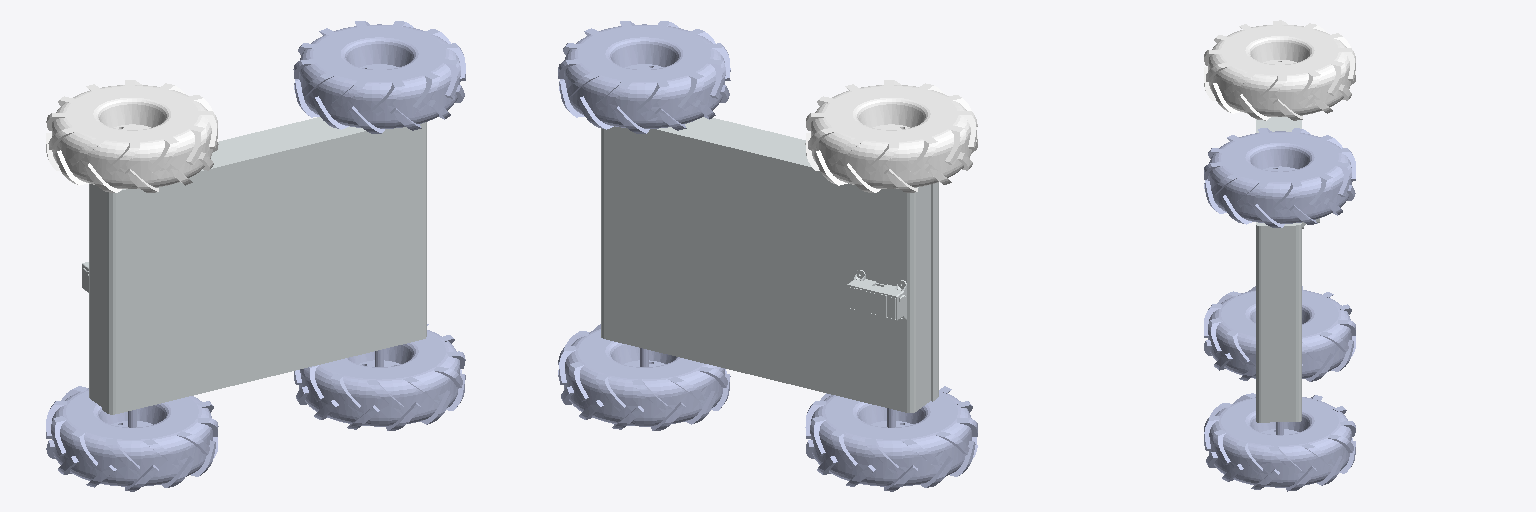
URDF robot description (Farmbot_v2):
<?xml version="1.0" encoding="utf-8"?>
<!-- This URDF was automatically created by SolidWorks to URDF Exporter! Originally created by Stephen Brawner ([email redacted]) 
     Commit Version: 1.6.0-1-g15f4949  Build Version: 1.6.7594.29634
     For more information, please see http://wiki.ros.org/sw_urdf_exporter -->
<robot
  name="Farmbot_v2" xmlns:xacro="http://www.ros.org/wiki/xacro">
  
  <link name="base_footprint"/>
  <joint name="base_joint" type="fixed">

    <parent link="base_footprint"/>         
    <child link="base_link"/>
    <axis xyz="0 0 0" /> 
  </joint>
  
  <link
    name="base_link">
    <inertial>
      <origin
        xyz="0.225593527834761 0.309520672229625 0.421445940738647"
        rpy="0 0 0" />
      <mass
        value="17.3309961285168" />
      <inertia
        ixx="0.216565207577632"
        ixy="6.28258362894764E-08"
        ixz="-3.05066920497308E-08"
        iyy="0.461820225126058"
        iyz="9.62708104215544E-08"
        izz="0.659420133120039" />
    </inertial>
    <visual>
      <origin
        xyz="0 0 0"
        rpy="0 0 0" />
      <geometry>
        <mesh
          filename="package://farmbot/meshes/base_link.stl" />
        <cylinder radius="0.09" length="0.09"/>
      </geometry>
      <material
        name="">
        <color
          rgba="0.898039215686275 0.92156862745098 0.929411764705882 1" />
      </material>
    </visual>
    <collision>
      <origin
        xyz="0 0 0"
        rpy="0 0 0" />
      <geometry>
        <mesh
          filename="package://farmbot/meshes/base_link.stl" />
        <cylinder radius="0.09" length="0.09"/>
      </geometry>
    </collision>
  </link>
  
  
  <link
    name="FrontRight">
    <inertial>
      <origin
        xyz="-1.5259E-09 1.3348E-09 0.039986"
        rpy="0 0 0" />
      <mass
        value="3.3217" />
      <inertia
        ixx="0.016428"
        ixy="1.1613E-10"
        ixz="6.1284E-10"
        iyy="0.016428"
        iyz="1.3241E-09"
        izz="0.029692" />
    </inertial>
    <visual>
      <origin
        xyz="0 0 0"
        rpy="0 0 0" />
      <geometry>
        <mesh
          filename="package://farmbot/meshes/FrontRight.stl" />
      </geometry>
      <material
        name="">
        <color
          rgba="0.79216 0.81961 0.93333 1" />
      </material>
    </visual>
    <collision>
      <origin
        xyz="0 0 0"
        rpy="0 0 0" />
      <geometry>
        <mesh
          filename="package://farmbot/meshes/FrontRight.stl" />
      </geometry>
    </collision>
  </link>
  <joint
    name="FrontRightJoint"
    type="continuous">
    <origin
      xyz="0.44821 -0.41971 0.015678"
      rpy="0 0 1.776" />
    <parent
      link="base_link" />
    <child
      link="FrontRight" />
    <axis
      xyz="0 0 1" />
    <limit effort="0.1" velocity="0.005"/>
    <joint_properties damping="1.0" friction="1.0"/>
  </joint>

  <link
    name="FrontLeft">
    <inertial>
      <origin
        xyz="1.2025E-09 -1.6321E-09 -0.12547"
        rpy="0 0 0" />
      <mass
        value="3.3217" />
      <inertia
        ixx="0.016428"
        ixy="6.2974E-10"
        ixz="-8.8368E-10"
        iyy="0.016428"
        iyz="-1.161E-09"
        izz="0.029692" />
    </inertial>
    <visual>
      <origin
        xyz="0 0 0"
        rpy="0 0 0" />
      <geometry>
        <mesh
          filename="package://farmbot/meshes/FrontLeft.stl" />
      </geometry>
      <material
        name="">
        <color
          rgba="0.79216 0.81961 0.93333 1" />
      </material>
    </visual>
    <collision>
      <origin
        xyz="0 0 0"
        rpy="0 0 0" />
      <geometry>
        <mesh
          filename="package://farmbot/meshes/FrontLeft.stl" />
      </geometry>
    </collision>
  </link>
  <joint
    name="FrontLeftJoint"
    type="continuous">
    <origin
      xyz="0.44821 -0.41971 0.43791"
      rpy="3.1416 0 0" />
    <parent
      link="base_link" />
    <child
      link="FrontLeft" />
    <axis
      xyz="0 0 -1" />
    <limit effort="0.1" velocity="0.005"/>
    <joint_properties damping="1.0" friction="1.0"/>
  </joint>

  <link
    name="BackLeft">
    <inertial>
      <origin
        xyz="1.35102428289874E-09 1.52821666432601E-09 0.0399856152906295"
        rpy="0 0 0" />
      <mass
        value="3.32166178139039" />
      <inertia
        ixx="0.0164282687605719"
        ixy="-1.28891876894342E-10"
        ixz="1.32061447509444E-09"
        iyy="0.0164282662716864"
        iyz="-6.22007951372485E-10"
        izz="0.029691524931495" />
    </inertial>
    <visual>
      <origin
        xyz="0 0 0"
        rpy="0 0 0" />
      <geometry>
        <mesh
          filename="package://farmbot/meshes/BackLeft.stl" />
      </geometry>
      <material
        name="">
        <color
          rgba="1 1 1 1" />
      </material>
    </visual>
    <collision>
      <origin
        xyz="0 0 0"
        rpy="0 0 0" />
      <geometry>
        <mesh
          filename="package://farmbot/meshes/BackLeft.stl" />
      </geometry>
    </collision>
  </link>
  <joint
    name="BackLeftJoint"
    type="continuous">
    <origin
      xyz="0.00620504049529311 -0.419708648484776 0.437905569308333"
      rpy="3.14159265358979 0 0" />
    <parent
      link="base_link" />
    <child
      link="BackLeft" />
    <axis
      xyz="0 0 -1" />
    <limit effort="0.1" velocity="0.005"/>
    <joint_properties damping="1.0" friction="1.0"/>
  </joint>
  <link
    name="BackRight">
    <inertial>
      <origin
        xyz="1.35102428289874E-09 1.52821666432601E-09 0.0399856152906295"
        rpy="0 0 0" />
      <mass
        value="3.32166178139039" />
      <inertia
        ixx="0.0164282687605719"
        ixy="-1.28891876894342E-10"
        ixz="1.32061447509444E-09"
        iyy="0.0164282662716864"
        iyz="-6.22007951372485E-10"
        izz="0.029691524931495" />
    </inertial>
    <visual>
      <origin
        xyz="0 0 0"
        rpy="0 0 0" />
      <geometry>
        <mesh
          filename="package://farmbot/meshes/BackRight.stl" />
      </geometry>
      <material
        name="">
        <color
          rgba="0.792156862745098 0.819607843137255 0.933333333333333 1" />
      </material>
    </visual>
    <collision>
      <origin
        xyz="0 0 0"
        rpy="0 0 0" />
      <geometry>
        <mesh
          filename="package://farmbot/meshes/BackRight.stl" />
      </geometry>
    </collision>
  </link>
  <joint
    name="BackRightJoint"
    type="continuous">
    <origin
      xyz="0.006205 -0.41971 0.015678"
      rpy="0 0 -3.1289" />
    <parent
      link="base_link" />
    <child
      link="BackRight" />
    <axis
      xyz="0 0 1" />
    <limit effort="0.1" velocity="0.005"/>
    <joint_properties damping="1.0" friction="1.0"/>
  </joint>
  <gazebo>
    <plugin name="wheel_drive_controller" filename="libgazebo_ros_diff_drive.so">

      <!-- wheels -->
      <num_wheel_pairs>2</num_wheel_pairs>
      <left_joint>FrontLeftJoint</left_joint>
      <left_joint>BackLeftJoint</left_joint>
      <right_joint>FrontRightJoint</right_joint>
      <right_joint>BackRightJoint</right_joint>


      <!-- kinematics -->
      <wheel_separation>0.44</wheel_separation>
      <wheel_diameter>0.13335</wheel_diameter>
      <max_wheel_torque>20.0</max_wheel_torque>
      <max_wheel_acceleration>10.0</max_wheel_acceleration>

      <!-- odometry  --> 
      <odometry_source>world</odometry_source>
      <odometry_frame>odom</odometry_frame>
      <robot_base_frame>base_link</robot_base_frame>


      <publish_odom>true</publish_odom>
      <publish_odom_tf>true</publish_odom_tf>
      <update_rate>100.0</update_rate>
    </plugin>
  </gazebo>
  <ros2_control name="GazeboSystem" type="system">
    <transmission name="FrontLeftTransmission">
      <type>transmission_interface/SimpleTransmission</type>
      <joint name="FrontLeftJoint">
        <hardwareInterface>EffortJointInterface</hardwareInterface>
      </joint>
      <actuator name="FrontLeftMotor">
        <hardwareInterface>EffortJointInterface</hardwareInterface>
        <mechanicalReduction>50</mechanicalReduction>
      </actuator>
    </transmission>
    <transmission name="FrontRightTransmission">
      <type>transmission_interface/SimpleTransmission</type>
      <joint name="FrontRightJoint">
        <hardwareInterface>EffortJointInterface</hardwareInterface>
      </joint>
      <actuator name="FrontRightMotor">
        <hardwareInterface>EffortJointInterface</hardwareInterface>
        <mechanicalReduction>50</mechanicalReduction>
      </actuator>
    </transmission>
    <transmission name="BackLeftTransmission">
      <type>transmission_interface/SimpleTransmission</type>
      <joint name="BackLeftJoint">
        <hardwareInterface>EffortJointInterface</hardwareInterface>
      </joint>
      <actuator name="BackLeftMotor">
        <hardwareInterface>EffortJointInterface</hardwareInterface>
        <mechanicalReduction>50</mechanicalReduction>
      </actuator>
    </transmission>
    <transmission name="BackRightTransmission">
      <type>transmission_interface/SimpleTransmission</type>
      <joint name="BackRightJoint">
        <hardwareInterface>EffortJointInterface</hardwareInterface>
      </joint>
      <actuator name="BackRightMotor">
        <hardwareInterface>EffortJointInterface</hardwareInterface>
        <mechanicalReduction>50</mechanicalReduction>
      </actuator>
    </transmission>
    <hardware>
      <plugin>gazebo_ros2_control/GazeboSystem</plugin>
    </hardware>
  </ros2_control>
</robot>

--- Facts derived from the render (not from the file) ---
Views: 3 orthographic renders of the robot side by side, from view 1: azimuth 30°, elevation 25°; view 2: azimuth 150°, elevation 25°; view 3: azimuth 270°, elevation 25°.
Model Farmbot_v2 with 6 links and 5 joints (4 continuous, 1 fixed), rooted at base_footprint, posed all joints at 0.
Links seen in each view (by area): view 1: base_link, BackLeft, FrontLeft, BackRight, FrontRight; view 2: base_link, FrontLeft, BackLeft, BackRight, FrontRight; view 3: BackLeft, FrontLeft, FrontRight, base_link, BackRight.
Boxes of the visible links, x1,y1,x2,y2 form: base_link: [82, 117, 426, 414]; BackLeft: [46, 80, 218, 192]; FrontLeft: [293, 21, 465, 133]; BackRight: [46, 386, 218, 491]; FrontRight: [294, 324, 465, 430]; base_link: [601, 117, 938, 412]; FrontLeft: [558, 21, 730, 133]; BackLeft: [805, 80, 977, 192]; BackRight: [805, 386, 977, 491]; FrontRight: [558, 324, 730, 430]; BackLeft: [1204, 20, 1355, 120]; FrontLeft: [1204, 128, 1355, 227]; FrontRight: [1204, 393, 1355, 491]; base_link: [1256, 117, 1319, 422]; BackRight: [1204, 286, 1355, 381].
Size in the robot's own frame: 0.7087 by 0.2667 by 0.5867 metres.
Meshes: 5 distinct files referenced, 5 mesh visuals loaded (5 binary STL).
